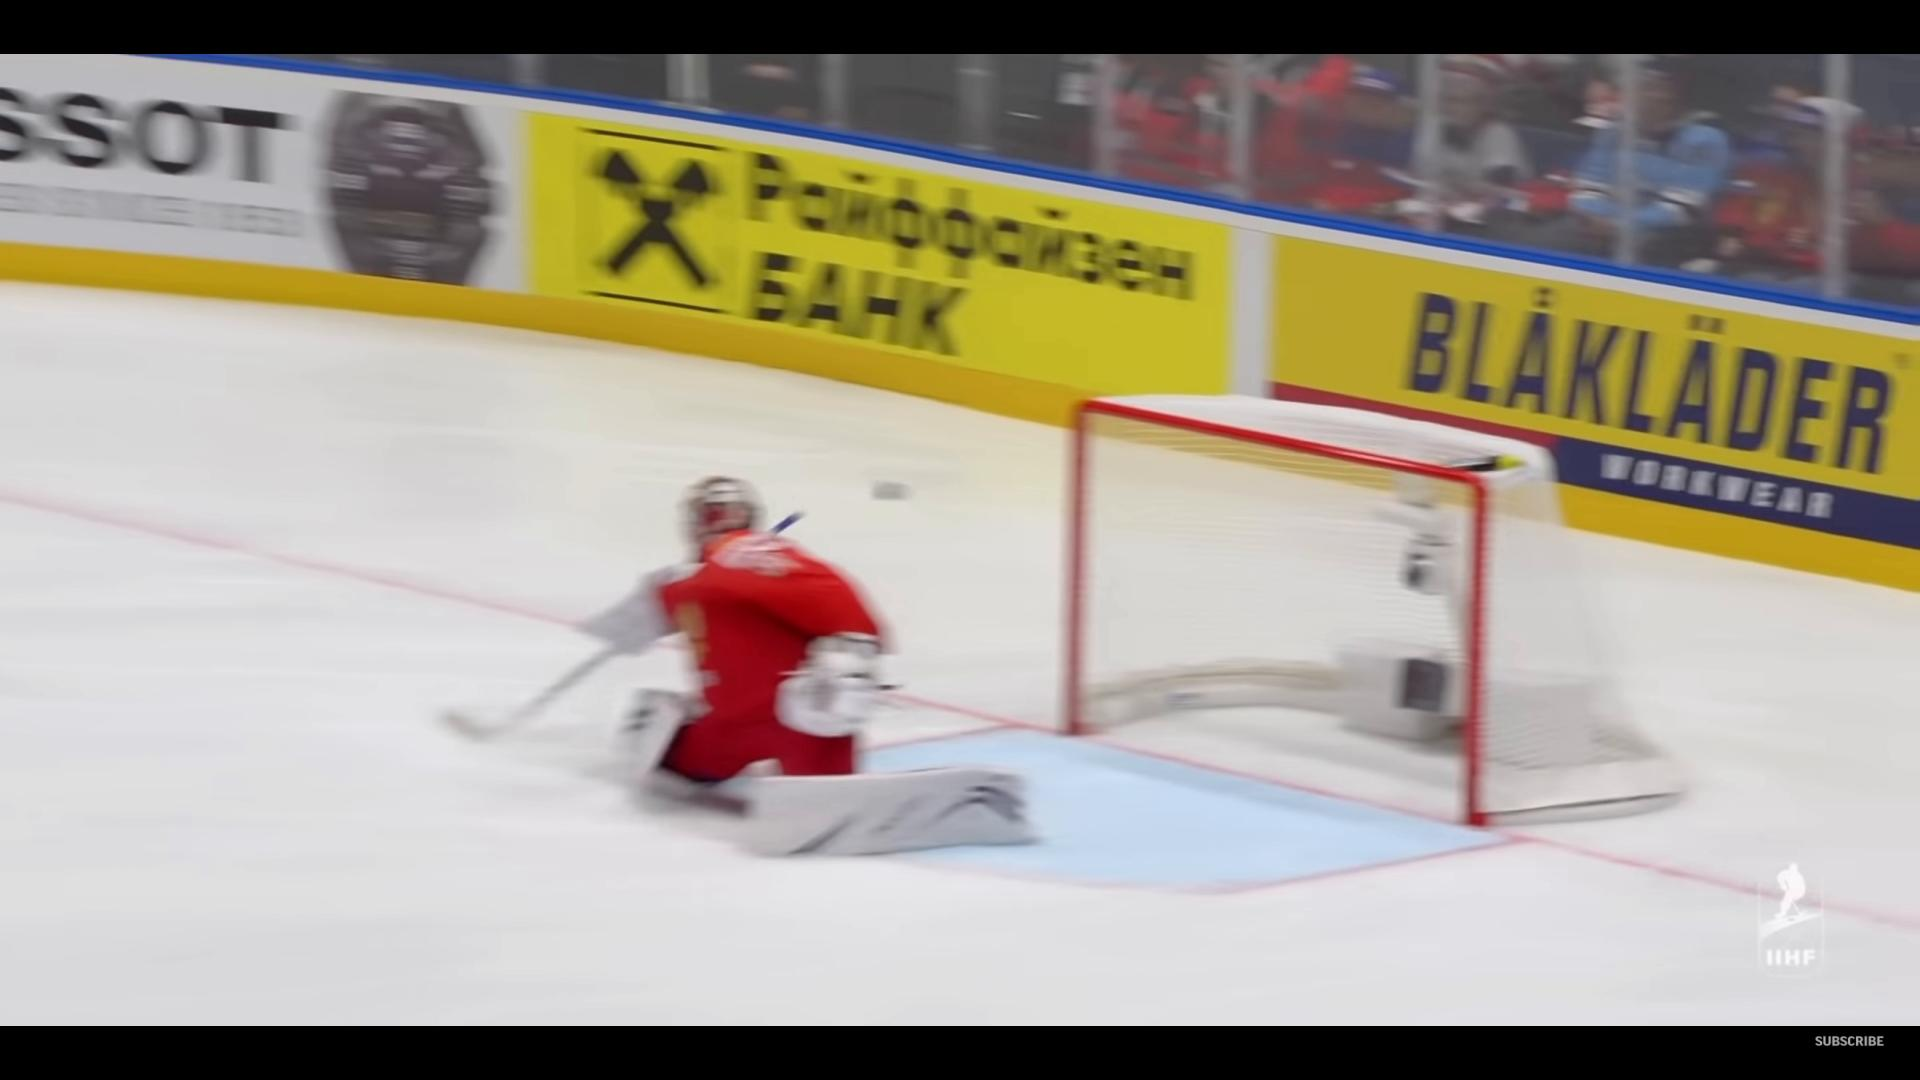puck: (873, 480, 906, 500)
